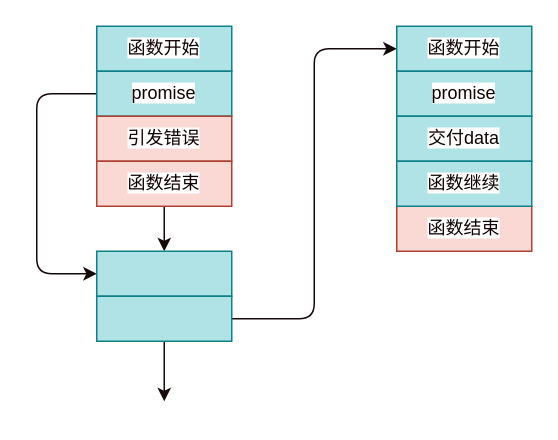
Image size: 558x440. Some labels were removed from this diagram. The box of each missing label's shape, as (x1, y1, x2, y2) in pixels:
data: (95, 250, 232, 296)
缓存 data: (95, 295, 232, 341)
